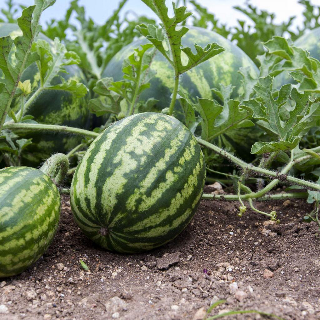dua_hau: (71, 110, 208, 256)
